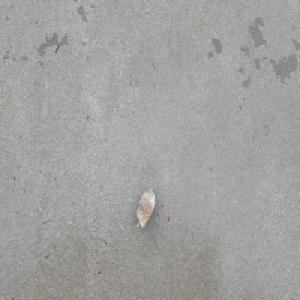Rock: (135, 186, 155, 231)
